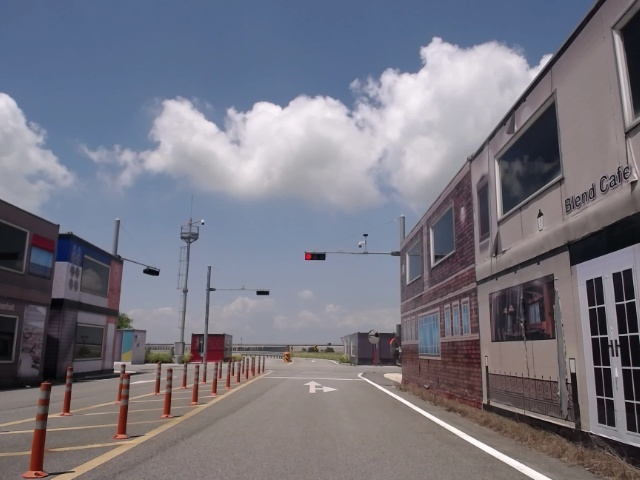red_3: (305, 252, 325, 260)
